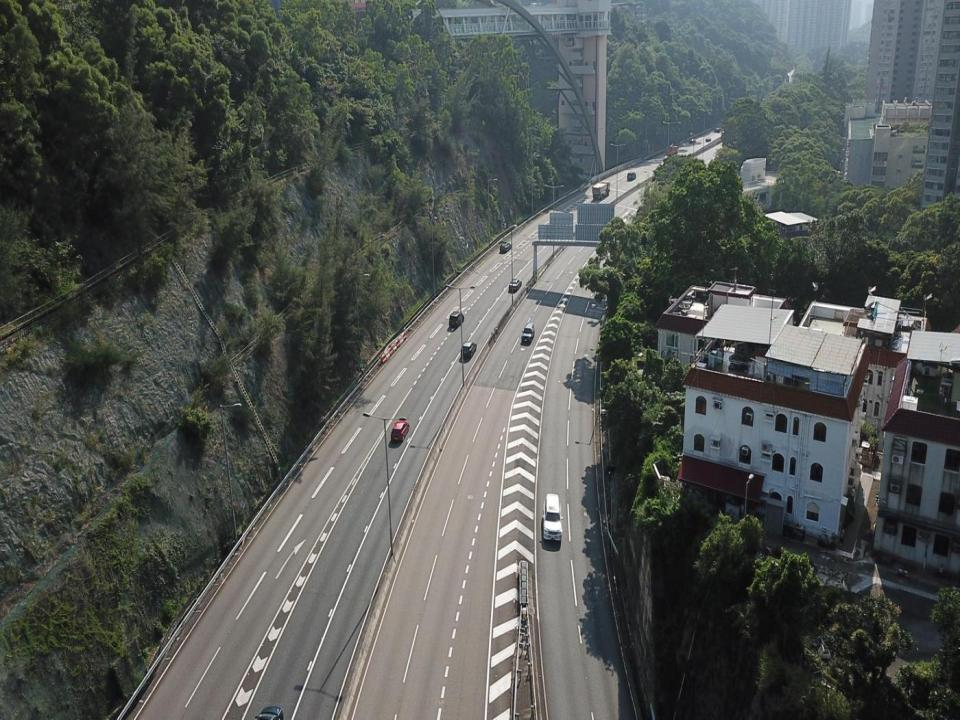car: (542, 493, 563, 543), (390, 417, 410, 444), (521, 322, 535, 344), (460, 340, 477, 358), (448, 311, 464, 328), (508, 278, 522, 291), (499, 241, 512, 253), (626, 171, 636, 181)
truck: (592, 178, 611, 200)
